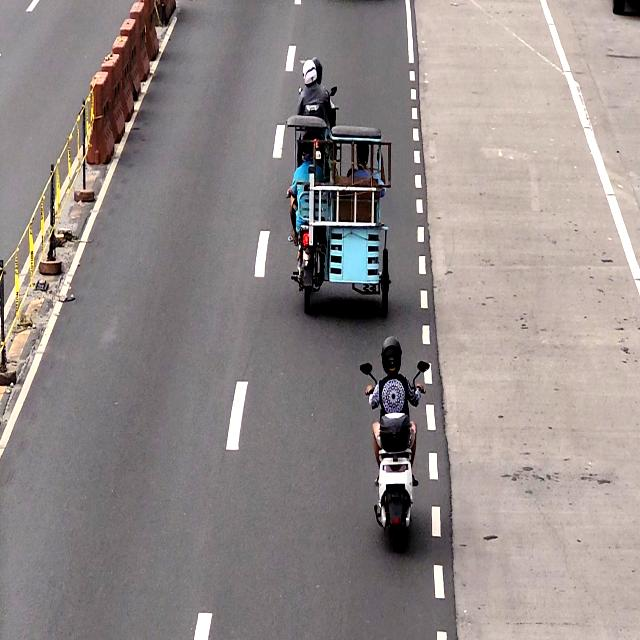Motorcycle: (368, 334, 424, 560)
Tricycle: (296, 114, 386, 308)
